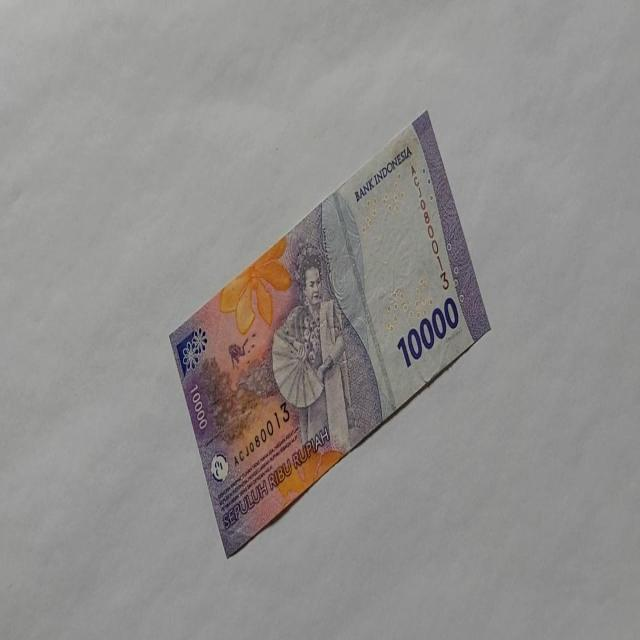Kertas: (168, 108, 492, 558), (396, 295, 459, 369)
